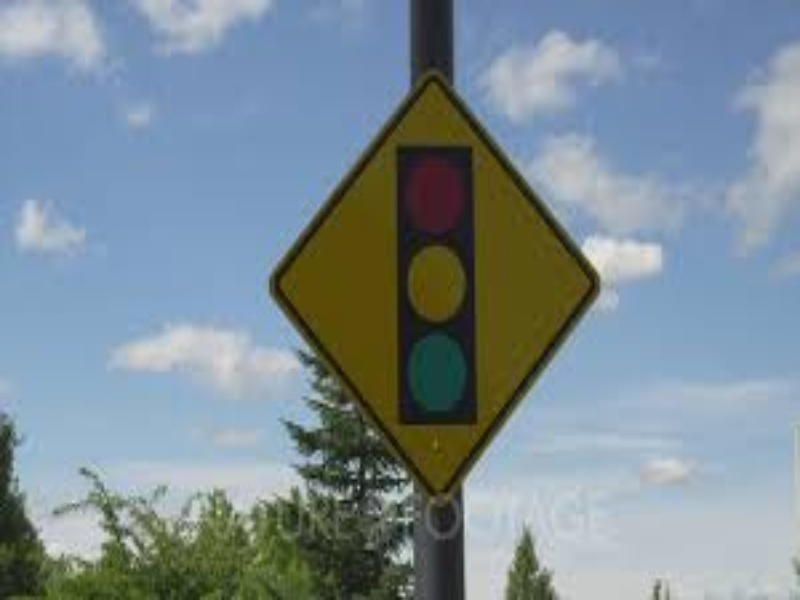traffic signal sign: (266, 67, 606, 512)
